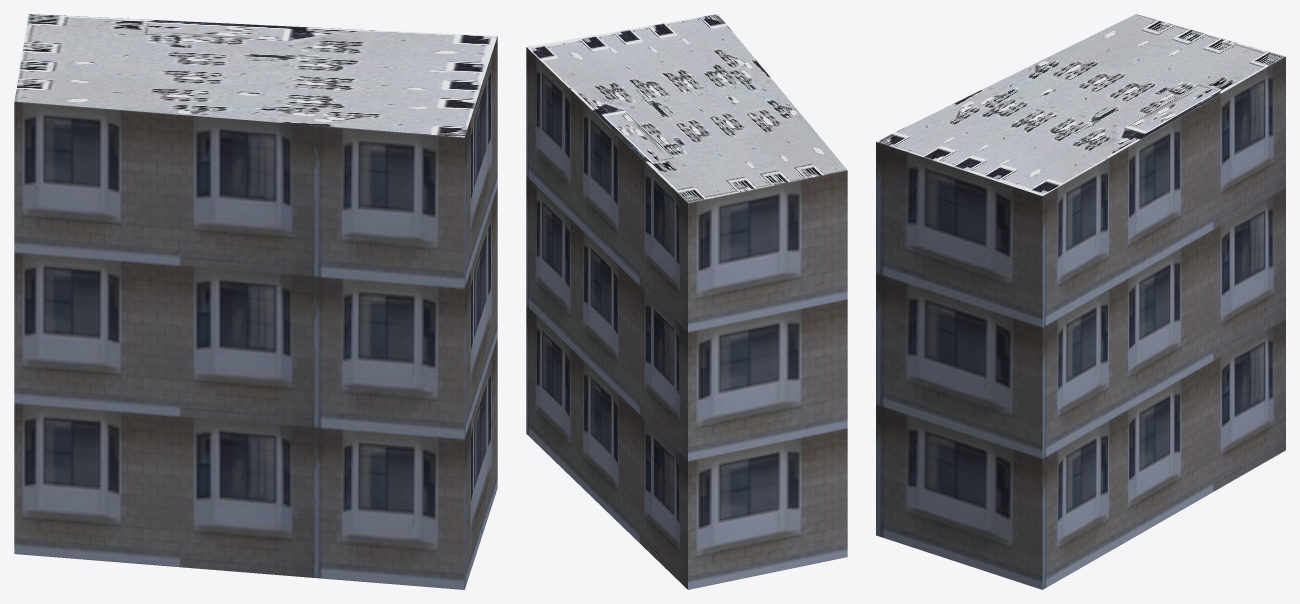
The model's file is ResTex__4613.fbx.
3 views of the same model, side by side, from view 1: azimuth 30°, elevation 25°; view 2: azimuth 150°, elevation 25°; view 3: azimuth 270°, elevation 25° (orthographic). The views are drawn at different scales.
Visible parts, largest first — view 1: CityEngineMaterial_3_m, CityEngineMaterial_8_m; view 2: CityEngineMaterial_3_m, CityEngineMaterial_8_m; view 3: CityEngineMaterial_3_m, CityEngineMaterial_8_m.
Boxes of the visible parts, x1=… form: CityEngineMaterial_3_m: x1=14, y1=36, x2=497, y2=589; CityEngineMaterial_8_m: x1=14, y1=14, x2=497, y2=137; CityEngineMaterial_3_m: x1=526, y1=47, x2=847, y2=589; CityEngineMaterial_8_m: x1=527, y1=14, x2=846, y2=202; CityEngineMaterial_3_m: x1=876, y1=57, x2=1285, y2=589; CityEngineMaterial_8_m: x1=876, y1=14, x2=1285, y2=195.
Bounding box in the file's own units: 8.93 × 9 × 8.49.
2 materials, 2 textured.
